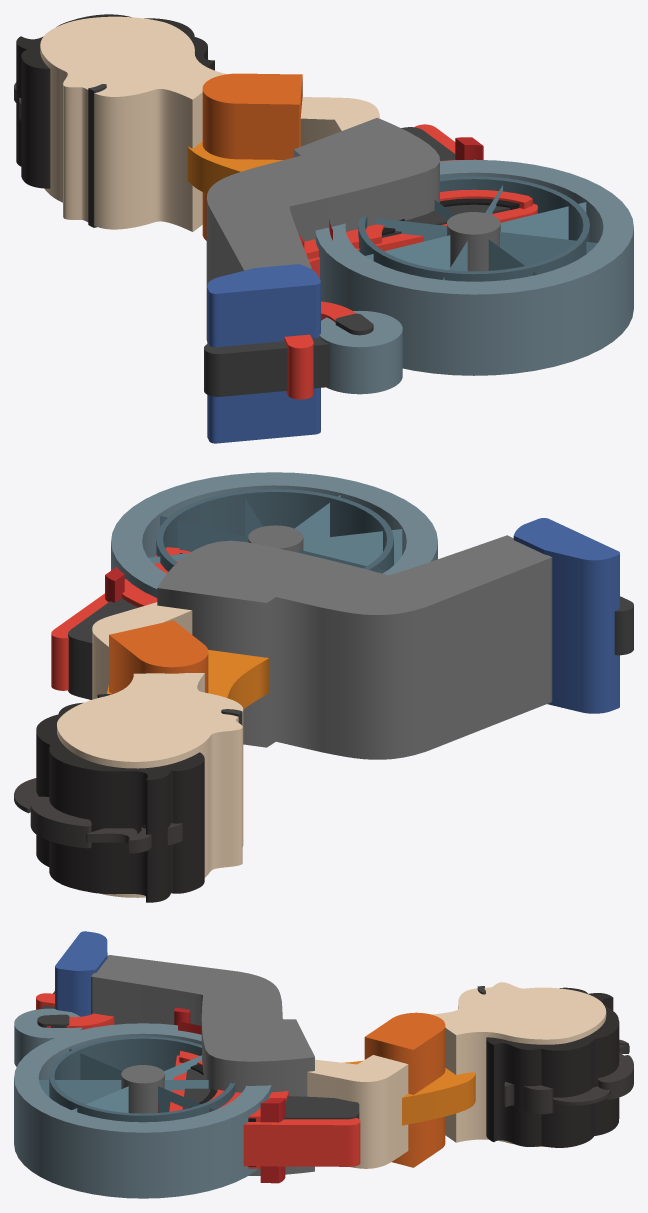
File: emoji_u1f9d1_1f3fb_200d_1f9bd.glb
3 renders of one model, top to bottom at view 1: azimuth 30°, elevation 25°; view 2: azimuth 150°, elevation 25°; view 3: azimuth 270°, elevation 25°, orthographic. The views are drawn at different scales.
Parts seen in each view (by area): view 1: emoji_u1f9d1_1f3fb_200d_1f9bd; view 2: emoji_u1f9d1_1f3fb_200d_1f9bd; view 3: emoji_u1f9d1_1f3fb_200d_1f9bd.
Boxes of the visible parts, <box> form: emoji_u1f9d1_1f3fb_200d_1f9bd: <box>14,14,633,443</box>; emoji_u1f9d1_1f3fb_200d_1f9bd: <box>14,472,633,902</box>; emoji_u1f9d1_1f3fb_200d_1f9bd: <box>14,931,633,1198</box>.
Size of the model in its own units: 0.0219 by 0.007 by 0.0324.
